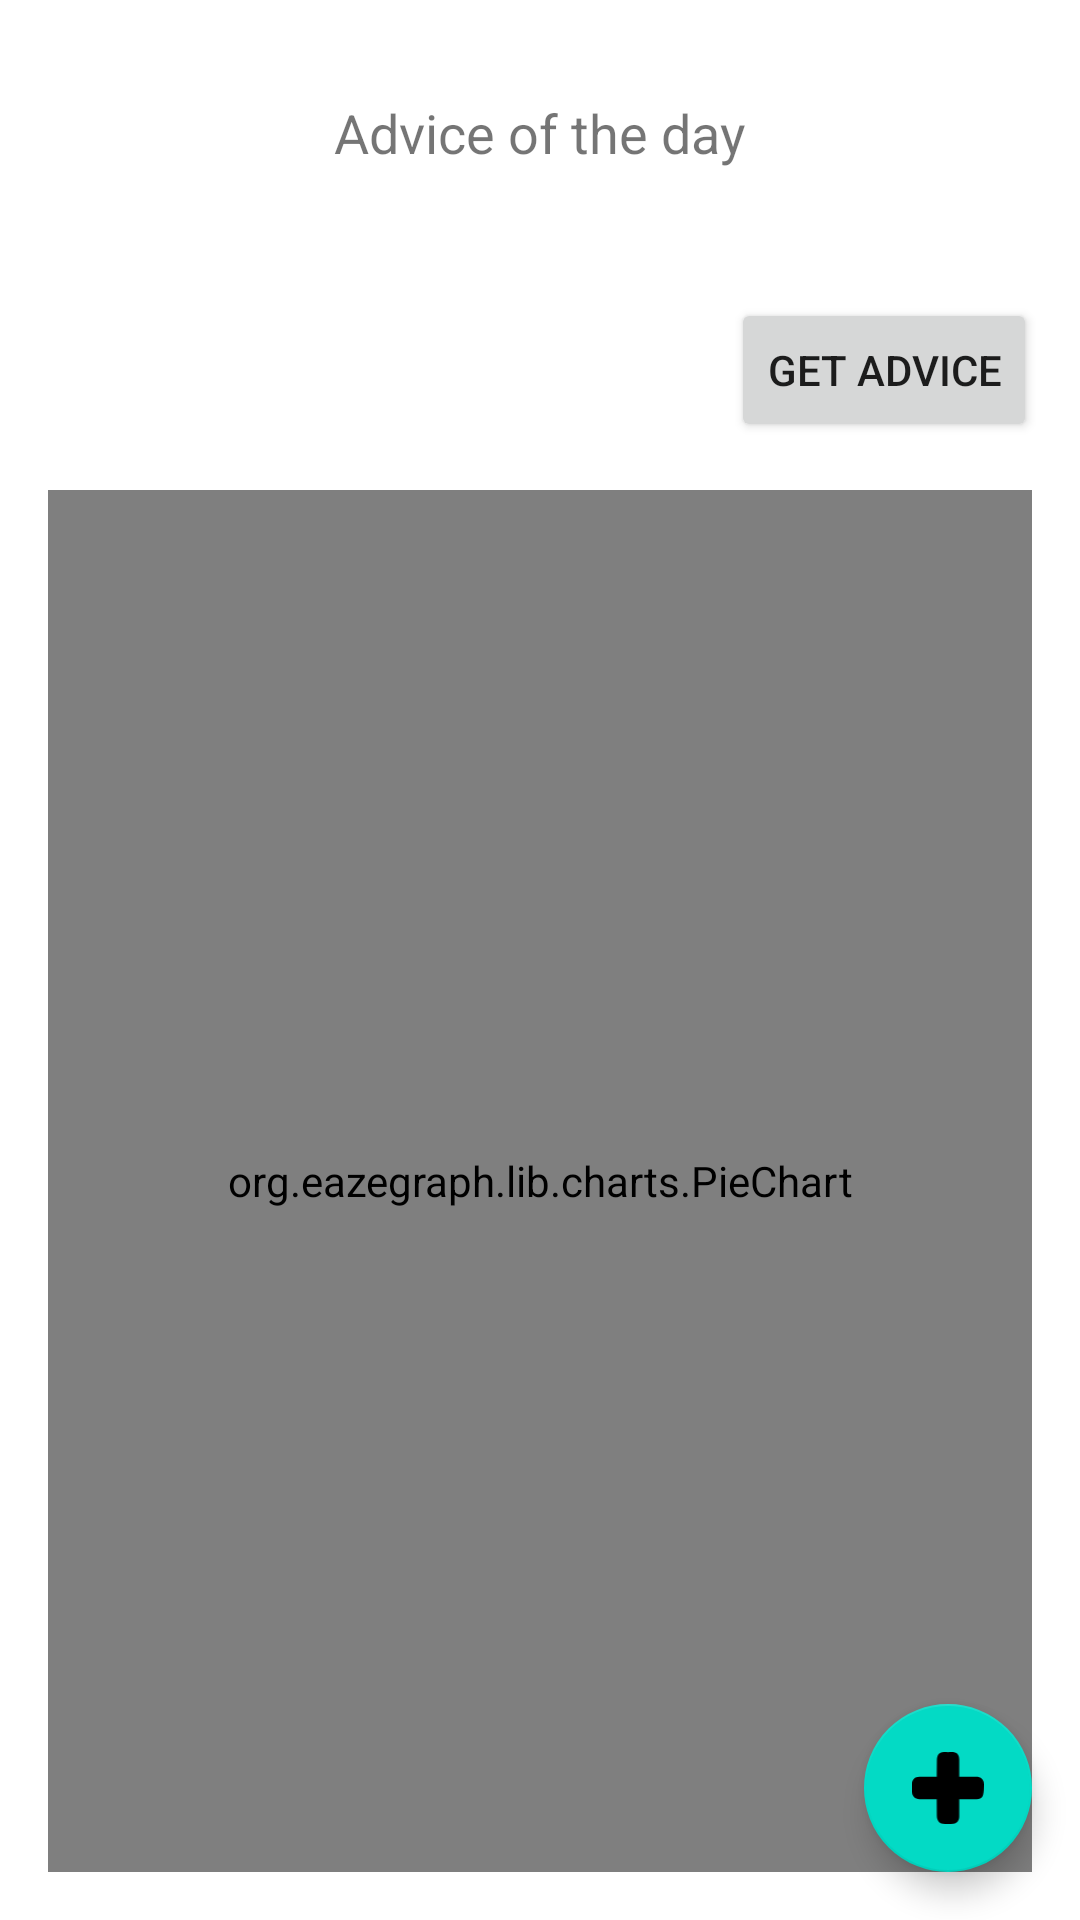

Icons on this 1080w x 1920h Android screen, each with the point to tap as (x,y):
Add new Task: (948,1788)
